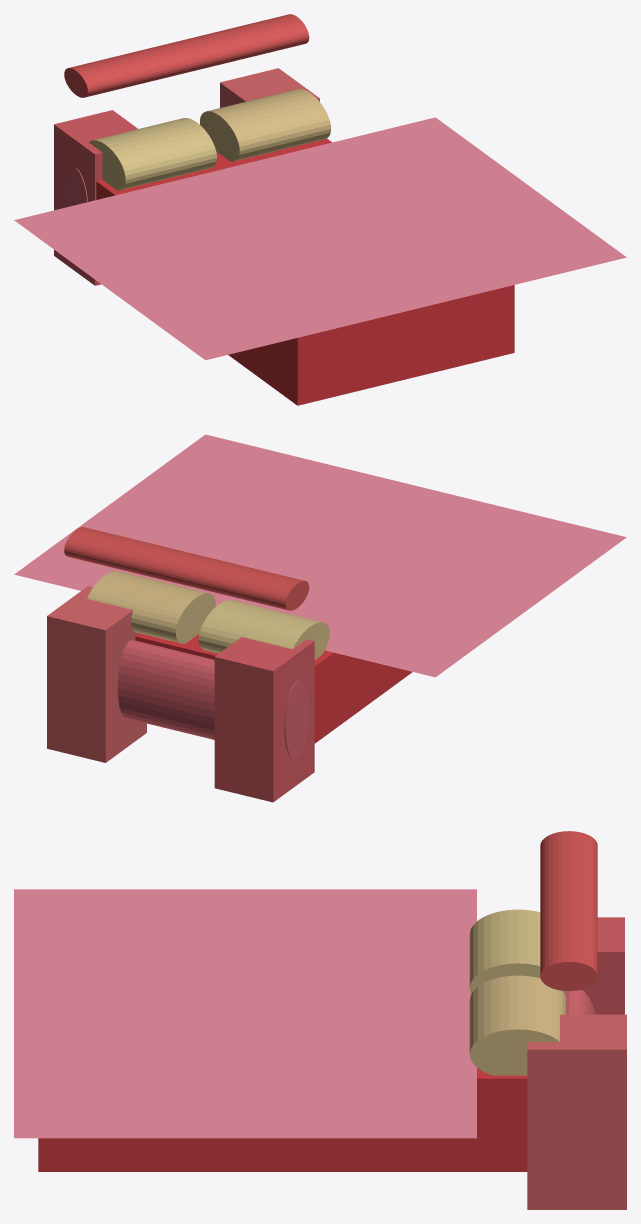
The model's file is Bed of glory1.dae.
3 renders of one model, top to bottom at view 1: azimuth 30°, elevation 25°; view 2: azimuth 150°, elevation 25°; view 3: azimuth 270°, elevation 25°, orthographic. The views are drawn at different scales.
Parts seen in each view (by area): view 1: Plane, Cube, Cylinder_001, Cylinder_003, Cylinder_002, Cylinder; view 2: Plane, Cube, Cylinder, Cylinder_001, Cylinder_003, Cylinder_002; view 3: Plane, Cube, Cylinder_001, Cylinder_003, Cylinder_002, Cylinder.
Part boxes in pixels (left/top/right/bottom): Plane: left=14, top=117, right=626, bottom=360; Cube: left=54, top=68, right=514, bottom=405; Cylinder_001: left=64, top=14, right=309, bottom=97; Cylinder_003: left=200, top=89, right=330, bottom=161; Cylinder_002: left=89, top=118, right=216, bottom=190; Cylinder: left=64, top=167, right=87, bottom=207; Plane: left=14, top=434, right=626, bottom=677; Cube: left=47, top=586, right=412, bottom=802; Cylinder: left=117, top=640, right=309, bottom=759; Cylinder_001: left=64, top=527, right=309, bottom=610; Cylinder_003: left=87, top=571, right=215, bottom=643; Cylinder_002: left=198, top=600, right=329, bottom=659; Plane: left=14, top=889, right=476, bottom=1138; Cube: left=38, top=917, right=626, bottom=1209; Cylinder_001: left=540, top=831, right=597, bottom=991; Cylinder_003: left=469, top=975, right=566, bottom=1075; Cylinder_002: left=469, top=909, right=565, bottom=993; Cylinder: left=565, top=989, right=595, bottom=1014.
Size of what is drawn, in the model's own units: 4.87 by 5.08 by 2.24.
